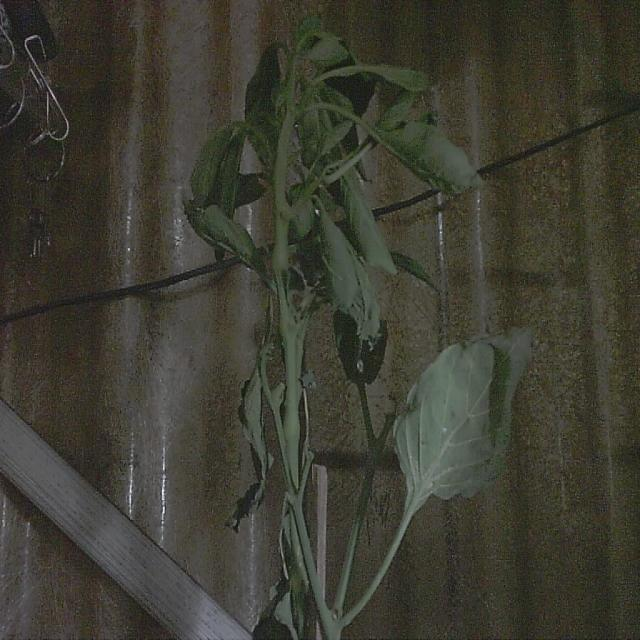Leaf: (398, 324, 532, 513), (375, 123, 488, 203), (320, 208, 380, 341), (231, 365, 272, 538)
